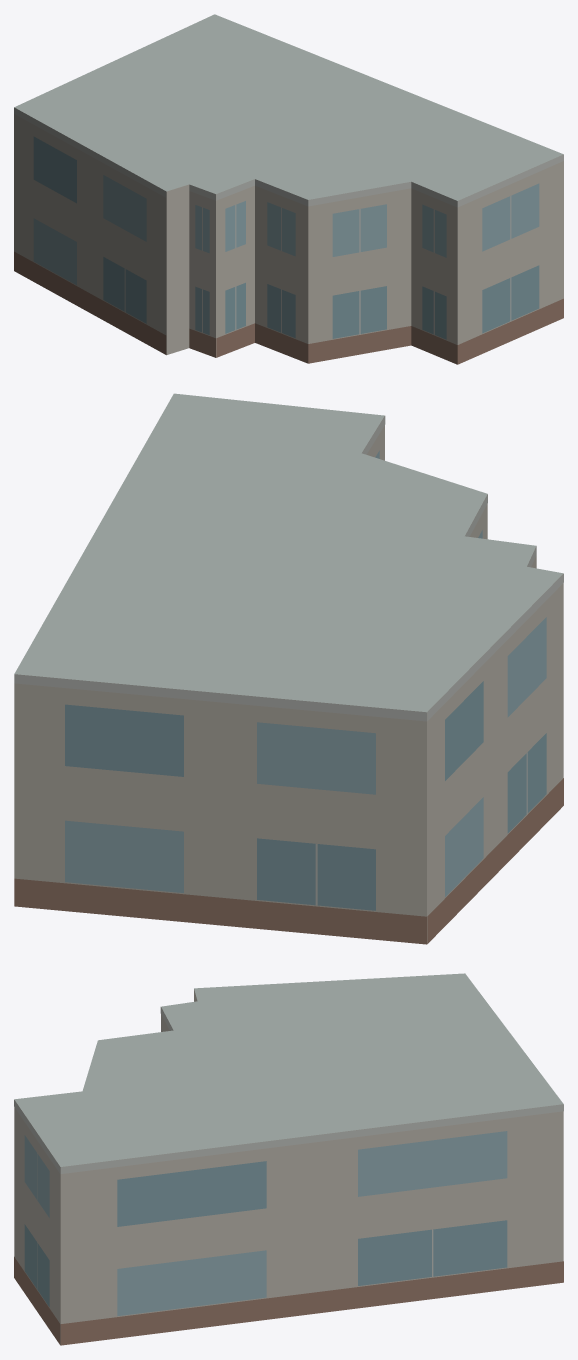
The model's file is survey-upis-32673638.glb.
3 views of the same model, one above another, from view 1: azimuth 30°, elevation 25°; view 2: azimuth 150°, elevation 25°; view 3: azimuth 270°, elevation 25° (orthographic). The views are drawn at different scales.
Parts seen in each view (by area): view 1: survey-upis-32673638.tmp; view 2: survey-upis-32673638.tmp; view 3: survey-upis-32673638.tmp.
Boxes of the visible parts, x1,y1,x2,y2 form: survey-upis-32673638.tmp: (14, 14, 563, 364); survey-upis-32673638.tmp: (14, 393, 563, 944); survey-upis-32673638.tmp: (14, 973, 563, 1345).
Size of the model in its own units: 14.21 by 6.1 by 17.04.
